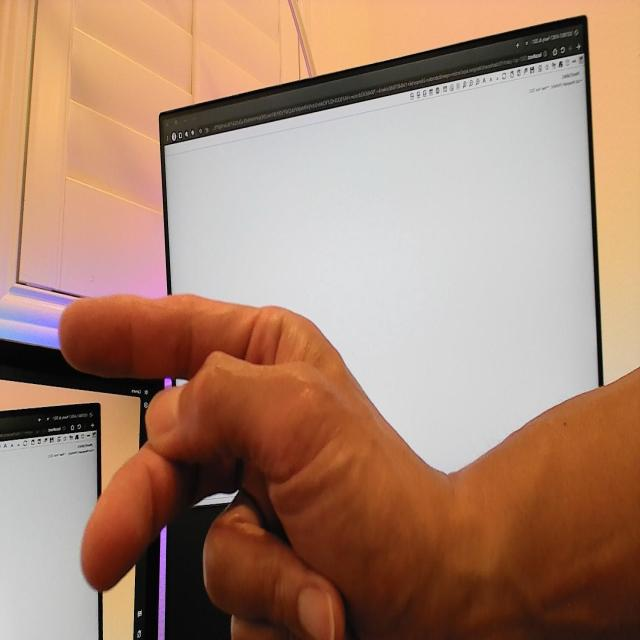P: (51, 282, 447, 640)
